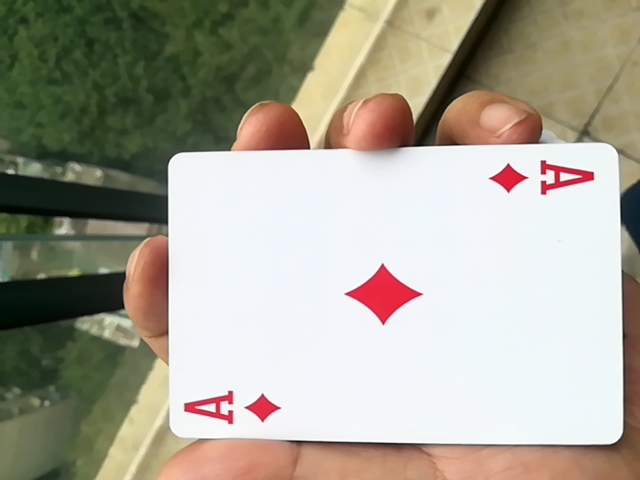fk a: (153, 144, 625, 459)
